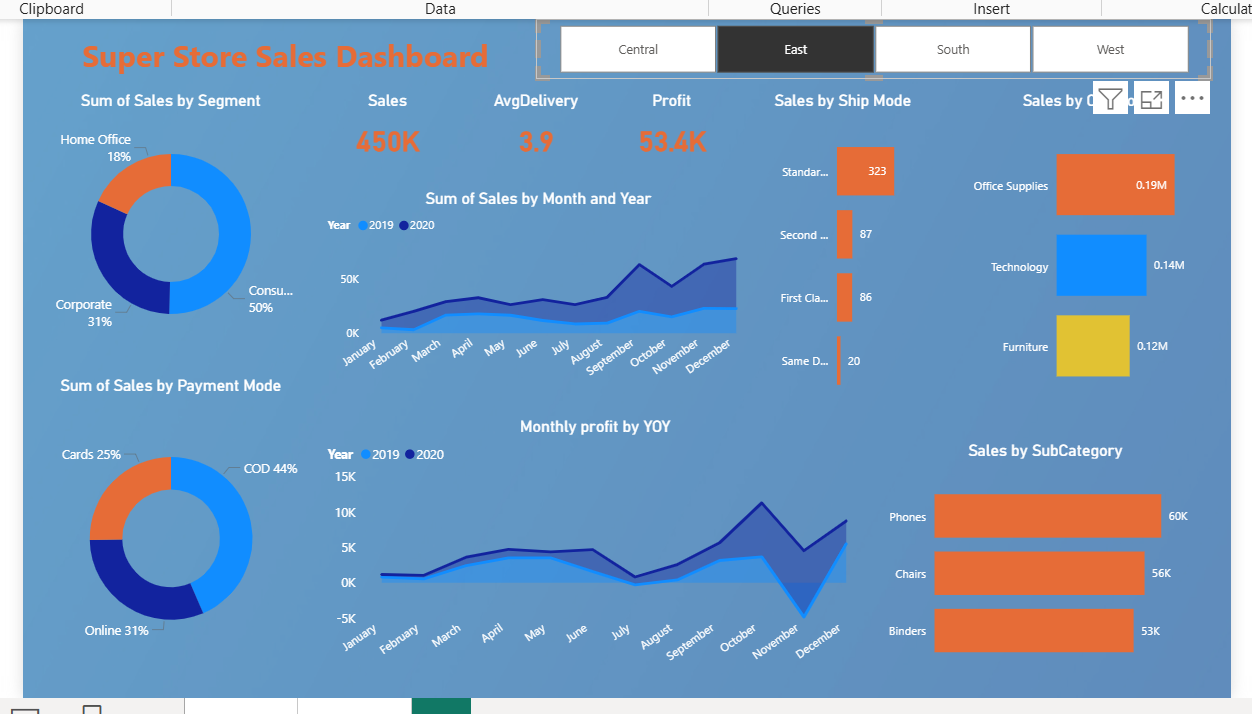

This screenshot's page, from the dashboard's own definition file:
{"tool":"powerbi","page":{"name":"Page 1","canvas":[1280,720],"ordinal":0},"visuals":[{"type":"clusteredBarChart","title":"Sales by Category","fields":{"Category":["SuperStore_Sales_Dataset.Category"],"Y":["Sum(SuperStore_Sales_Dataset.Sales)"]},"box":[995.7,76.3,264,345.2],"z":0},{"type":"clusteredBarChart","title":"Sales by SubCategory","fields":{"Y":["Sum(SuperStore_Sales_Dataset.Sales)"],"Category":["SuperStore_Sales_Dataset.Sub-Category"]},"box":[908.2,447,351.5,256.1],"z":1000},{"type":"clusteredBarChart","title":"Sales by Ship Mode","fields":{"Y":["CountNonNull(SuperStore_Sales_Dataset.Category)"],"Category":["SuperStore_Sales_Dataset.Ship Mode"]},"box":[785.8,76.3,167,345.2],"z":2000},{"type":"stackedAreaChart","fields":{"Y":["Sum(SuperStore_Sales_Dataset.Sales)"],"Category":["SuperStore_Sales_Dataset.Order Date.Variation.Date Hierarchy.Month","SuperStore_Sales_Dataset.Order Date.Variation.Date Hierarchy.Day"],"Series":["SuperStore_Sales_Dataset.Order Date.Variation.Date Hierarchy.Year"]},"box":[318.1,179.7,456.5,221.1],"z":3000},{"type":"stackedAreaChart","title":"Monthly profit by YOY","fields":{"Category":["SuperStore_Sales_Dataset.Order Date.Variation.Date Hierarchy.Month","SuperStore_Sales_Dataset.Order Date.Variation.Date Hierarchy.Day"],"Series":["SuperStore_Sales_Dataset.Order Date.Variation.Date Hierarchy.Year"],"Y":["Sum(SuperStore_Sales_Dataset.Profit)"]},"box":[318.1,421.5,577.4,281.5],"z":4000},{"type":"donutChart","fields":{"Category":["SuperStore_Sales_Dataset.Segment"],"Y":["Sum(SuperStore_Sales_Dataset.Sales)"]},"box":[12.7,76.3,287.9,283.1],"z":6000},{"type":"donutChart","fields":{"Category":["SuperStore_Sales_Dataset.Payment Mode"],"Y":["Sum(SuperStore_Sales_Dataset.Sales)"]},"box":[12.7,378.6,287.9,324.5],"z":7000},{"type":"slicer","fields":{"Values":["SuperStore_Sales_Dataset.Region"]},"box":[544,0,715.8,63.6],"z":8000},{"type":"textbox","box":[12.7,11.1,531.3,52.5],"z":9000},{"type":"card","title":"Sales","fields":{"Values":["Sum(SuperStore_Sales_Dataset.Sales)"]},"box":[318.1,76.3,136.8,82.7],"z":10000},{"type":"card","title":"AvgDelivery","fields":{"Values":["Avg(SuperStore_Sales_Dataset.AvgDelivery)"]},"box":[480.4,76.3,127.2,82.7],"z":11000},{"type":"card","title":"Profit","fields":{"Values":["Sum(SuperStore_Sales_Dataset.Profit)"]},"box":[623.5,76.3,128.8,82.7],"z":12000}]}

Visuals, with their boxes on the page's 1280x720 design canvas (x1, y1, x2, y2). These are canvas units, not pixel positions in the 1252x714 screenshot, which may show the page scaled, cropped or inside an application window:
"Sales by Category" clusteredBarChart: pyautogui.locateOnScreen(996, 76, 1260, 422)
"Sales by SubCategory" clusteredBarChart: pyautogui.locateOnScreen(908, 447, 1260, 703)
"Sales by Ship Mode" clusteredBarChart: pyautogui.locateOnScreen(786, 76, 953, 422)
stackedAreaChart - Sum(SuperStore_Sales_Dataset.Sales) x SuperStore_Sales_Dataset.Order Date.Variation.Date Hierarchy.Month: pyautogui.locateOnScreen(318, 180, 775, 401)
"Monthly profit by YOY" stackedAreaChart: pyautogui.locateOnScreen(318, 422, 896, 703)
donutChart - SuperStore_Sales_Dataset.Segment x Sum(SuperStore_Sales_Dataset.Sales): pyautogui.locateOnScreen(13, 76, 301, 359)
donutChart - SuperStore_Sales_Dataset.Payment Mode x Sum(SuperStore_Sales_Dataset.Sales): pyautogui.locateOnScreen(13, 379, 301, 703)
slicer - SuperStore_Sales_Dataset.Region: pyautogui.locateOnScreen(544, 0, 1260, 64)
textbox: pyautogui.locateOnScreen(13, 11, 544, 64)
"Sales" card: pyautogui.locateOnScreen(318, 76, 455, 159)
"AvgDelivery" card: pyautogui.locateOnScreen(480, 76, 608, 159)
"Profit" card: pyautogui.locateOnScreen(624, 76, 752, 159)
